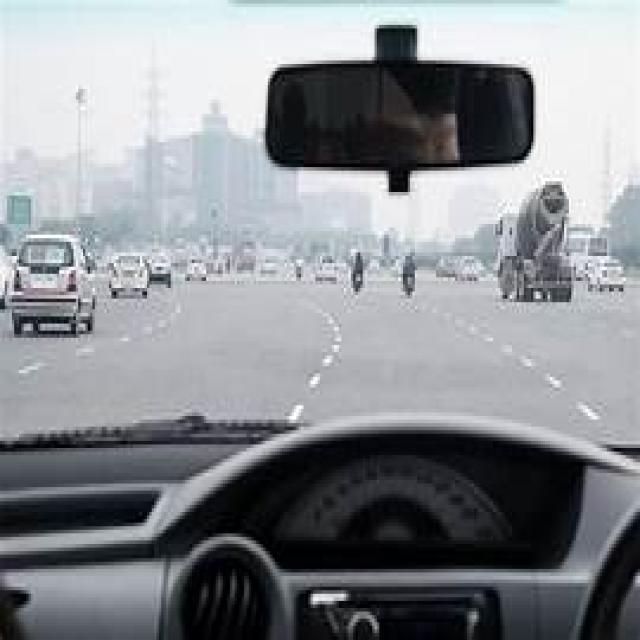Car: (14, 236, 95, 335)
